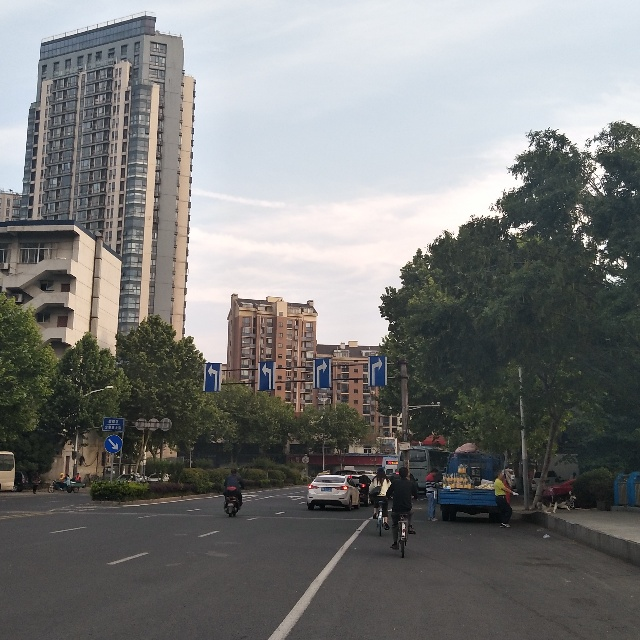left: (204, 358, 222, 395), (257, 359, 273, 390)
right: (309, 358, 331, 390), (368, 356, 389, 389)
